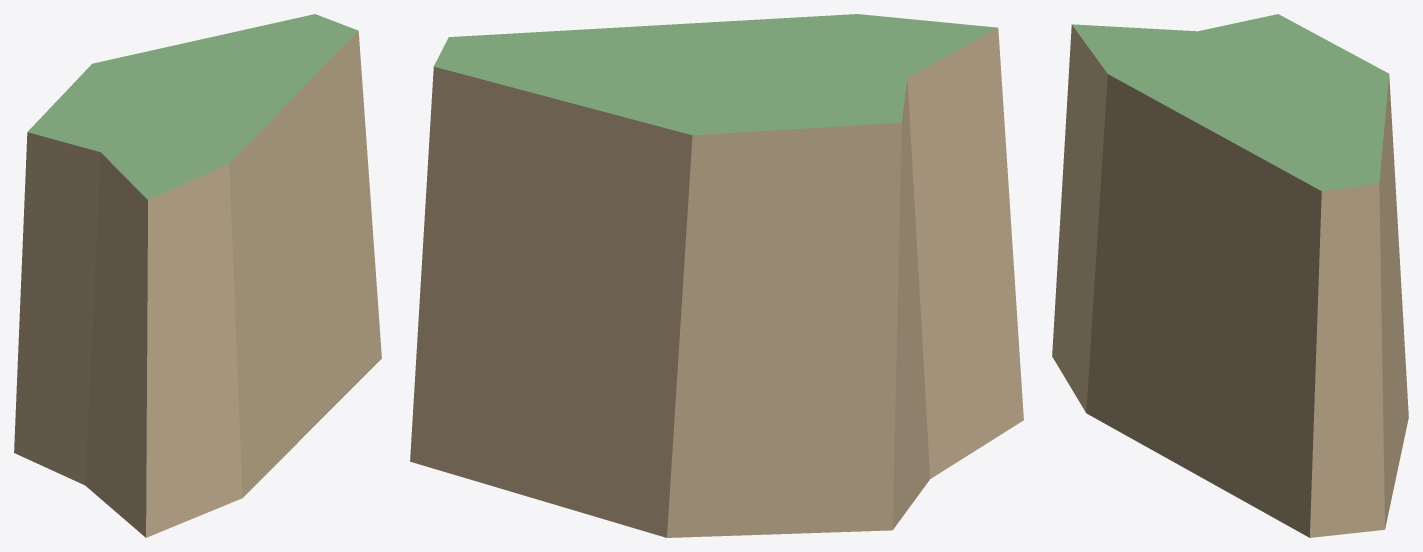
The model's file is LandPrefab.005.fbx.
The picture shows the model from 3 angles, left to right: view 1: azimuth 30°, elevation 25°; view 2: azimuth 150°, elevation 25°; view 3: azimuth 270°, elevation 25°; orthographic projection. The views are drawn at different scales.
Parts seen in each view (by area): view 1: LandPrefab.005; view 2: LandPrefab.005; view 3: LandPrefab.005.
Boxes of the visible parts, bbox=[...] form: LandPrefab.005: bbox=[14, 14, 381, 537]; LandPrefab.005: bbox=[410, 14, 1023, 537]; LandPrefab.005: bbox=[1052, 14, 1408, 537].
Size of the model in its own units: 367 by 308 by 295.
